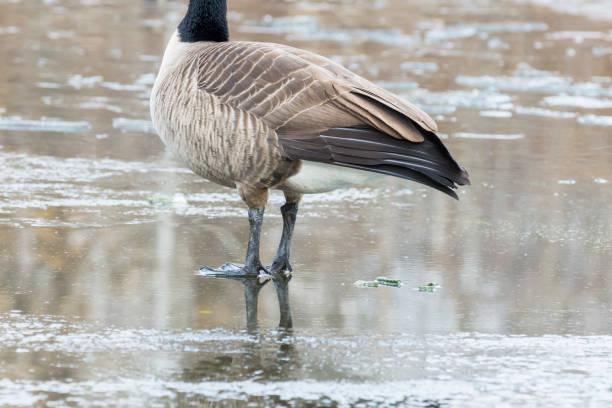Canadian-Goose: (149, 0, 468, 277)
